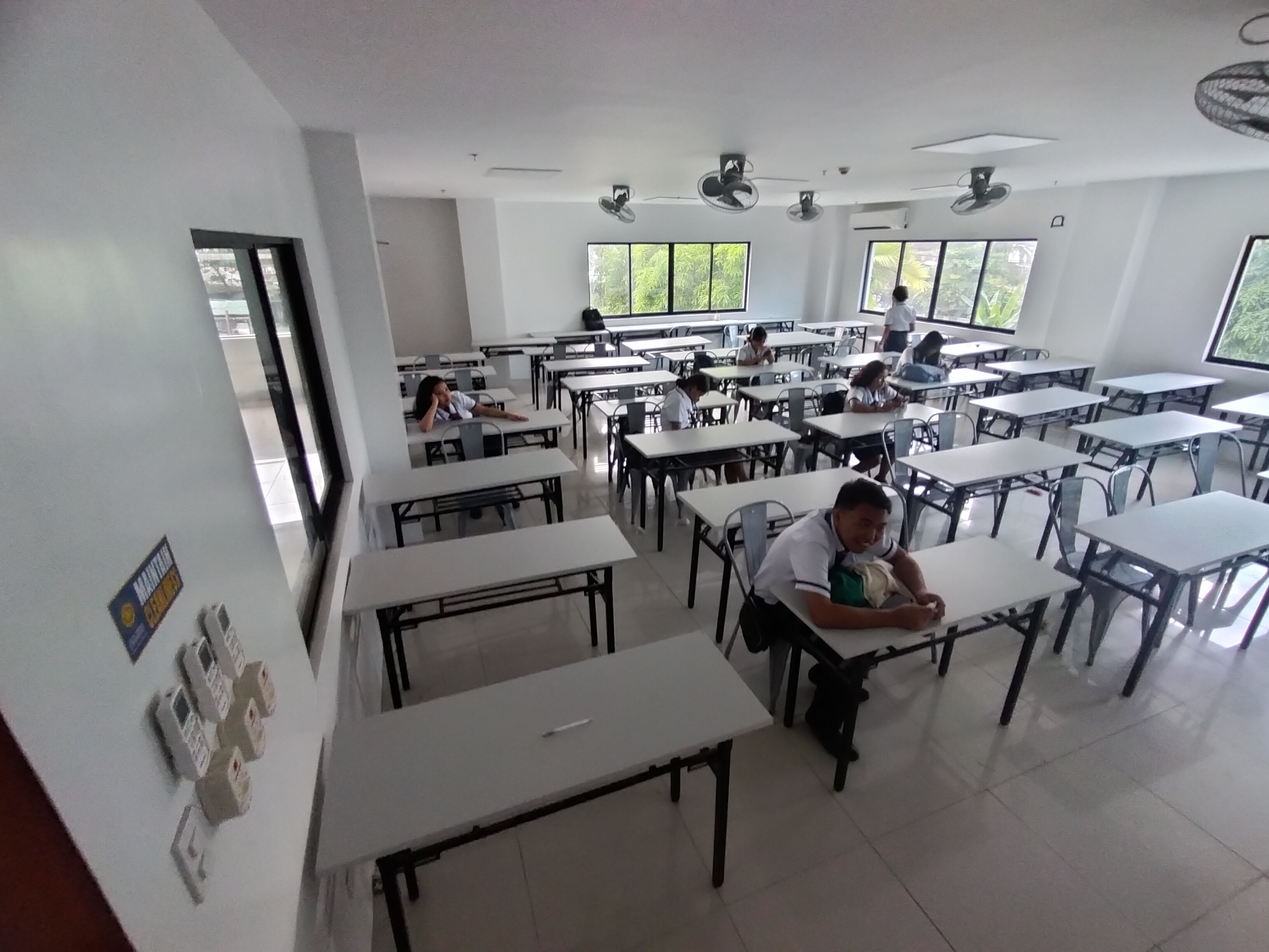with-student: (719, 474, 1083, 782), (621, 373, 802, 482), (400, 374, 571, 460), (806, 359, 962, 447), (883, 329, 1003, 404), (697, 324, 816, 387)
